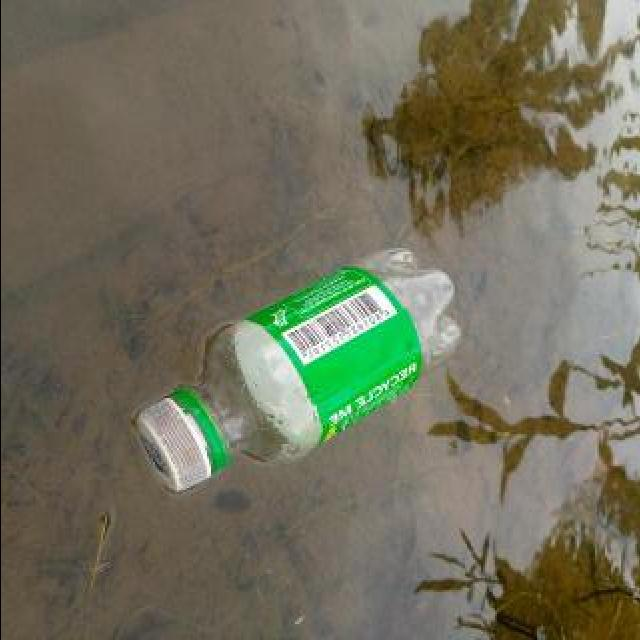Bottle: (125, 242, 467, 499)
